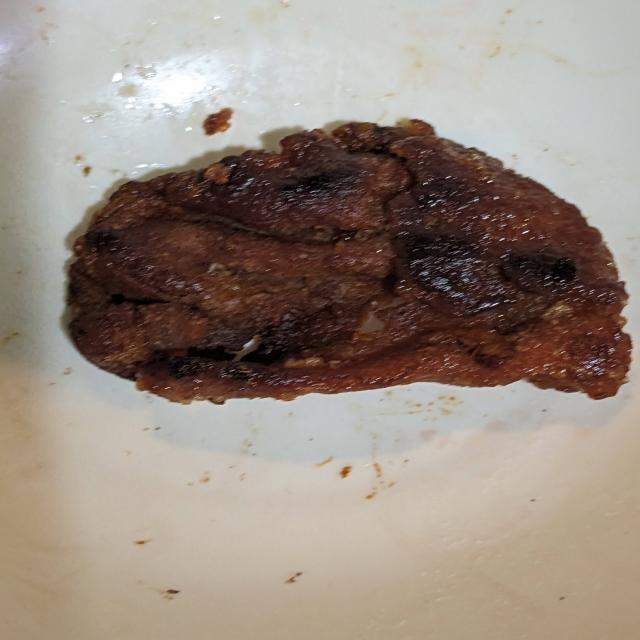overcooked pork: (55, 101, 640, 426)
